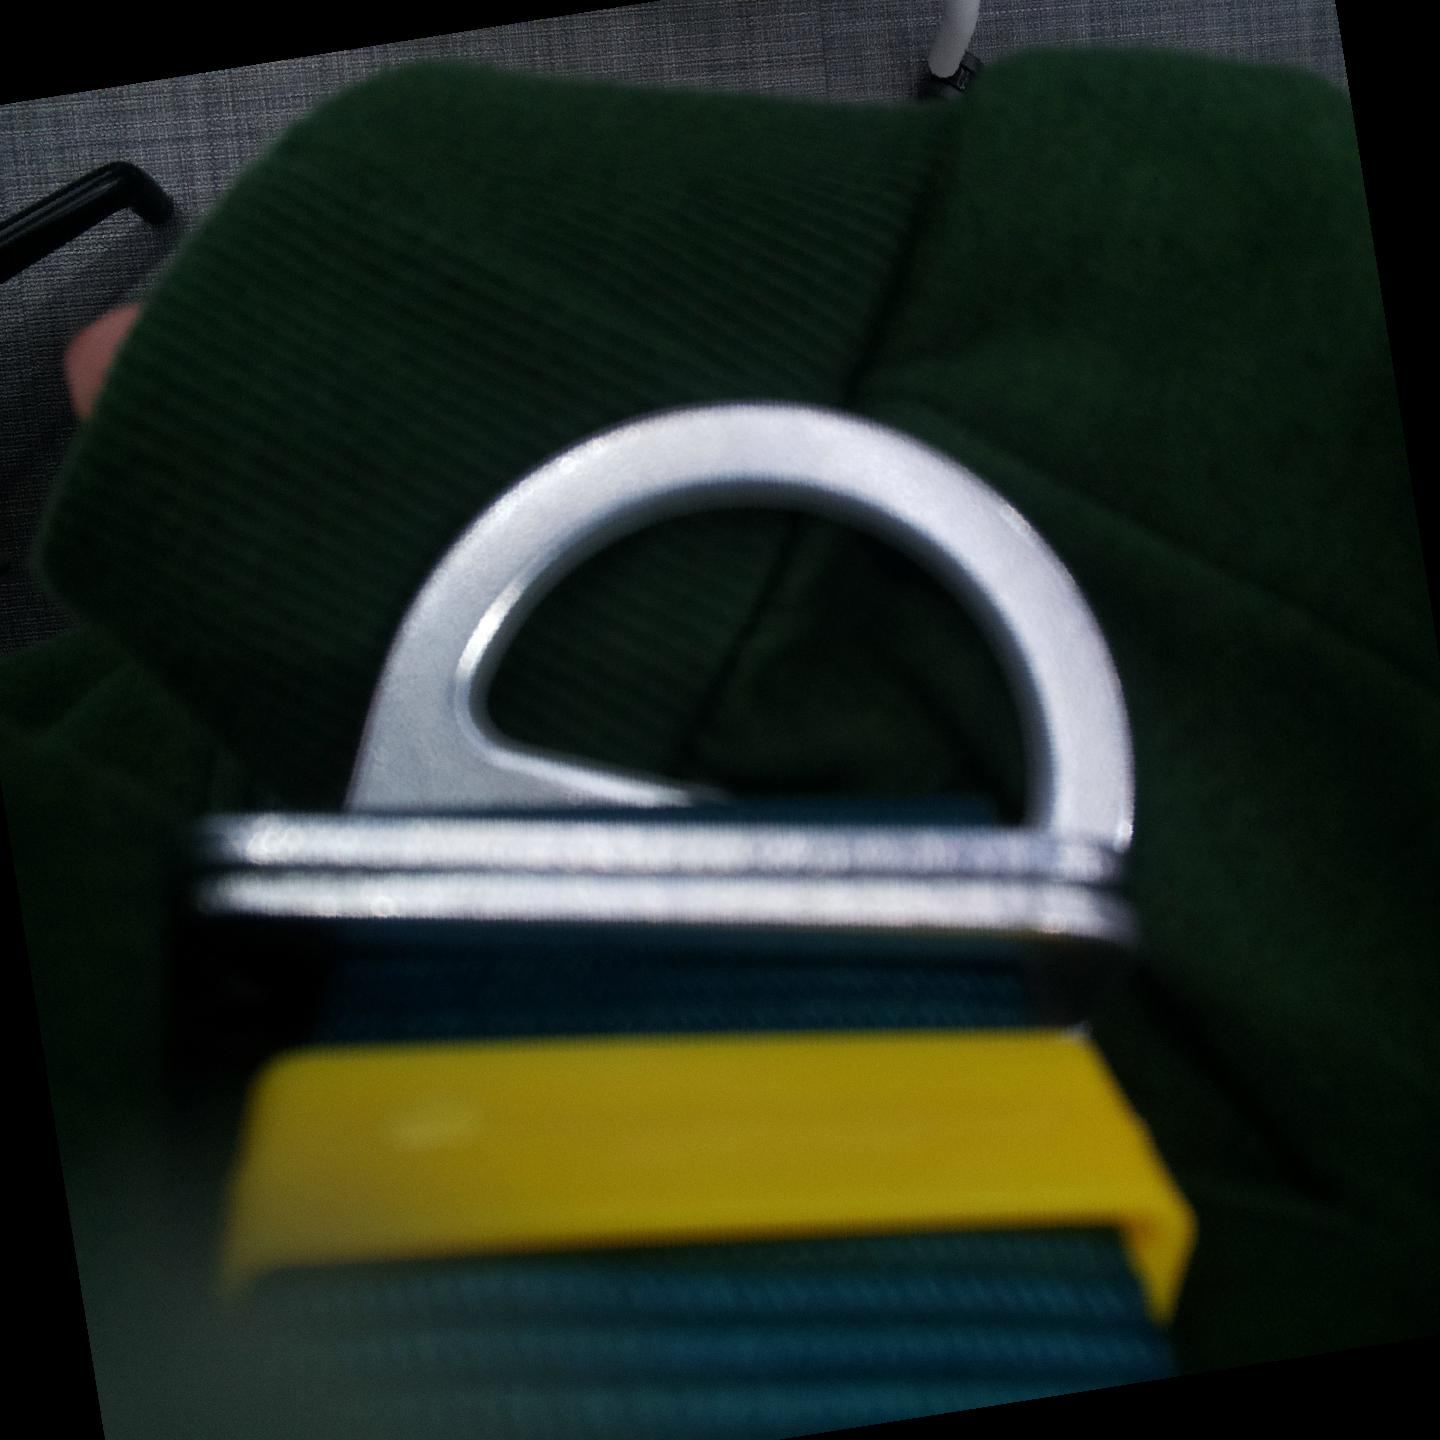UNSUCCESS: (332, 398, 1151, 837)
